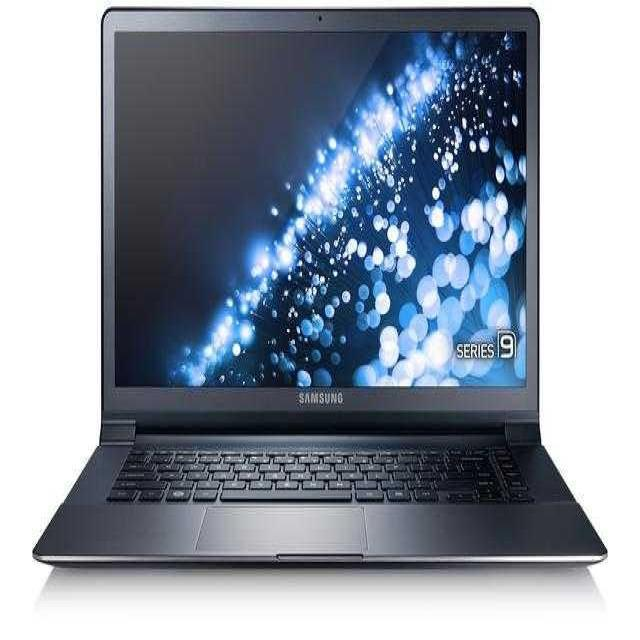laptop: (61, 0, 604, 596)
